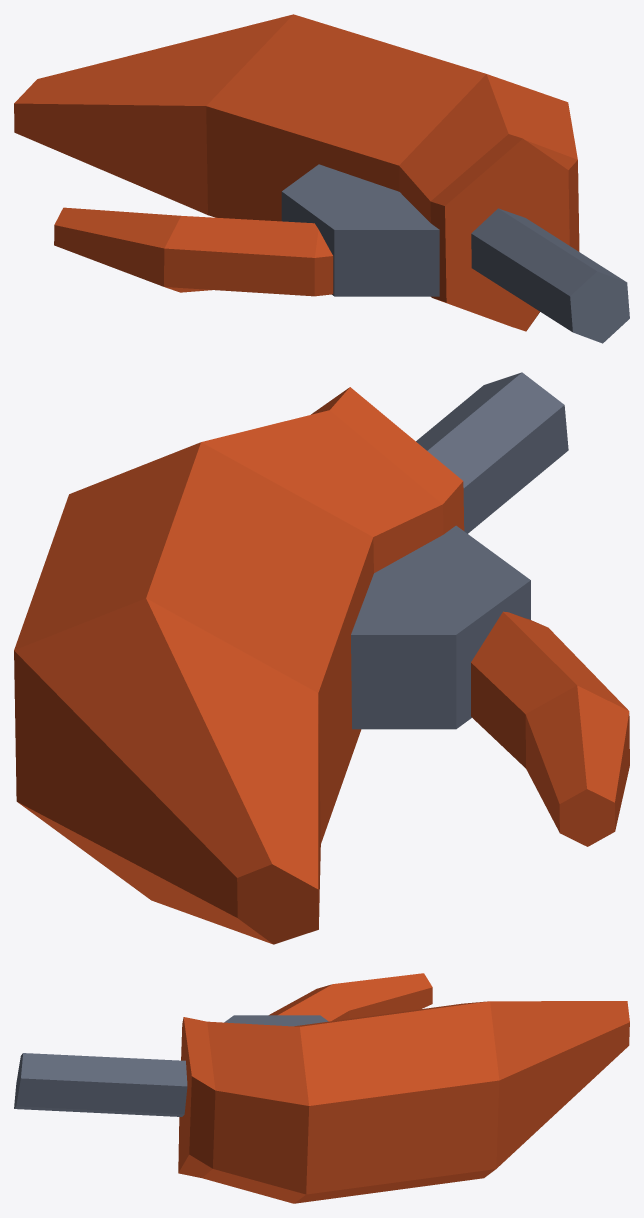
The model's file is garrinha1.fbx.
The picture shows the model from 3 angles, top to bottom: view 1: azimuth 30°, elevation 25°; view 2: azimuth 150°, elevation 25°; view 3: azimuth 270°, elevation 25°; orthographic projection. The views are drawn at different scales.
Visible parts, largest first — view 1: Cylinder, Cylinder.001, Cylinder.002, Cylinder.003; view 2: Cylinder, Cylinder.002, Cylinder.001, Cylinder.003; view 3: Cylinder, Cylinder.003, Cylinder.001, Cylinder.002.
Boxes of the visible parts, x1=… form: Cylinder: x1=14, y1=14, x2=579, y2=331; Cylinder.001: x1=54, y1=207, x2=333, y2=296; Cylinder.002: x1=281, y1=164, x2=439, y2=296; Cylinder.003: x1=471, y1=208, x2=629, y2=343; Cylinder: x1=14, y1=387, x2=464, y2=944; Cylinder.002: x1=351, y1=525, x2=530, y2=729; Cylinder.001: x1=471, y1=611, x2=629, y2=846; Cylinder.003: x1=416, y1=372, x2=568, y2=533; Cylinder: x1=178, y1=1001, x2=629, y2=1203; Cylinder.003: x1=14, y1=1053, x2=187, y2=1116; Cylinder.001: x1=269, y1=973, x2=432, y2=1021; Cylinder.002: x1=224, y1=1015, x2=328, y2=1026.
Size of the model in its own units: 493 by 233 by 713.
